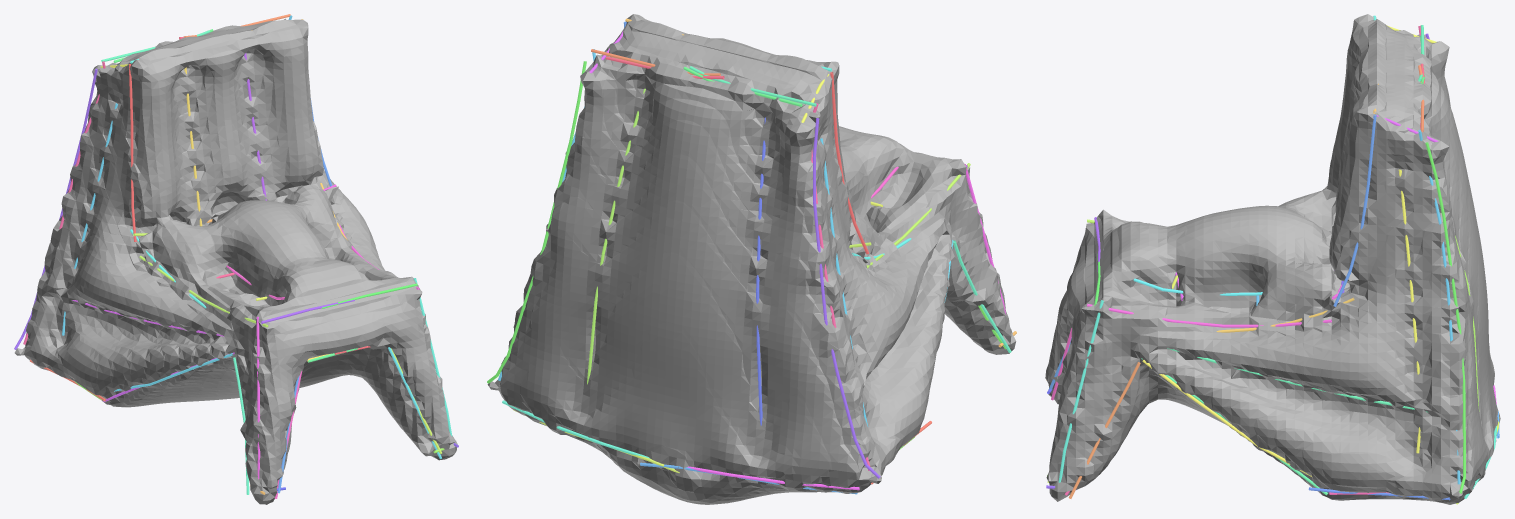
The model's file is author1_chair_ff.gltf.
3 views of the same model, side by side, from view 1: azimuth 30°, elevation 25°; view 2: azimuth 150°, elevation 25°; view 3: azimuth 270°, elevation 25° (orthographic). The views are drawn at different scales.
Bounding box in the file's own units: 0.5775 × 0.6045 × 0.6039.
